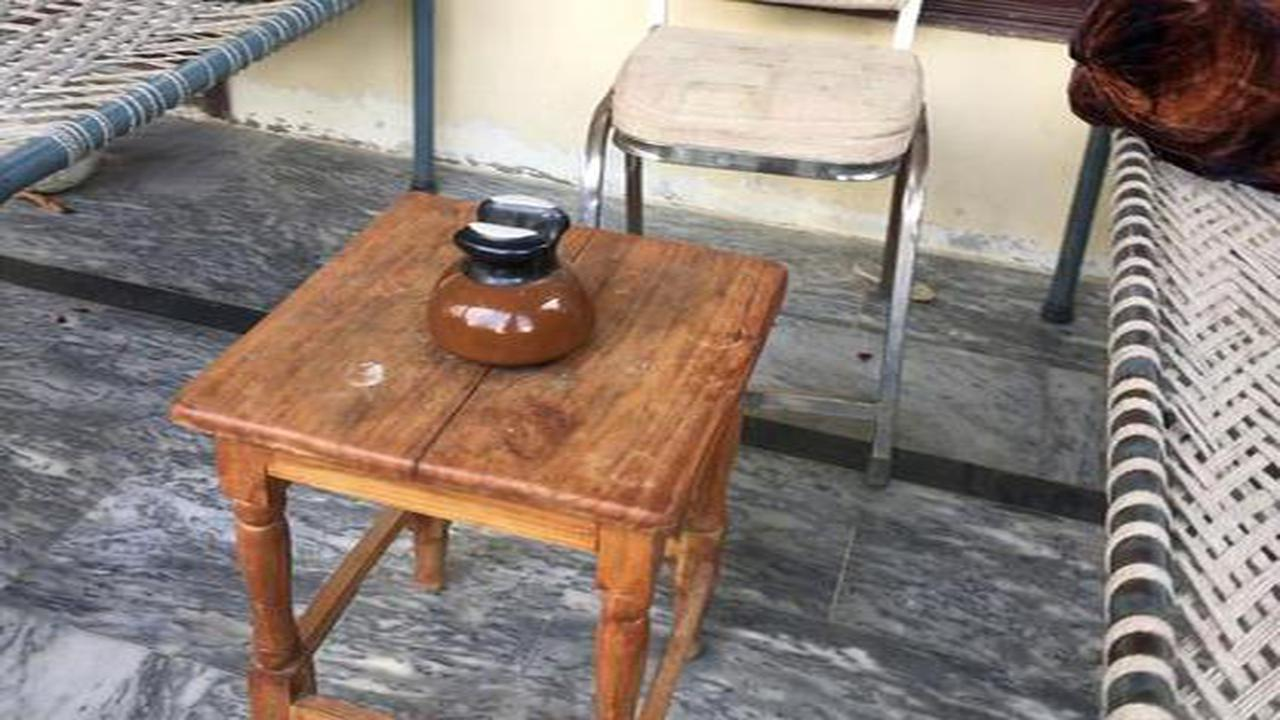insulator_pin: (407, 179, 622, 376)
